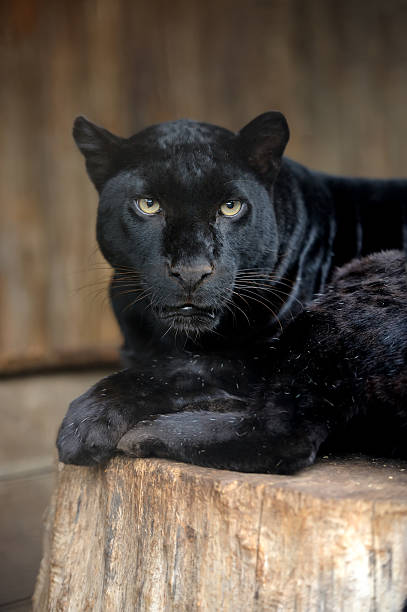panther: (44, 104, 309, 365)
